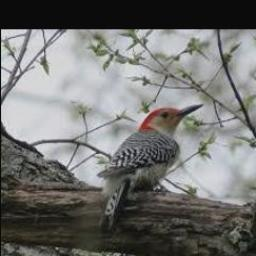Woodpecker: (98, 103, 204, 230)
